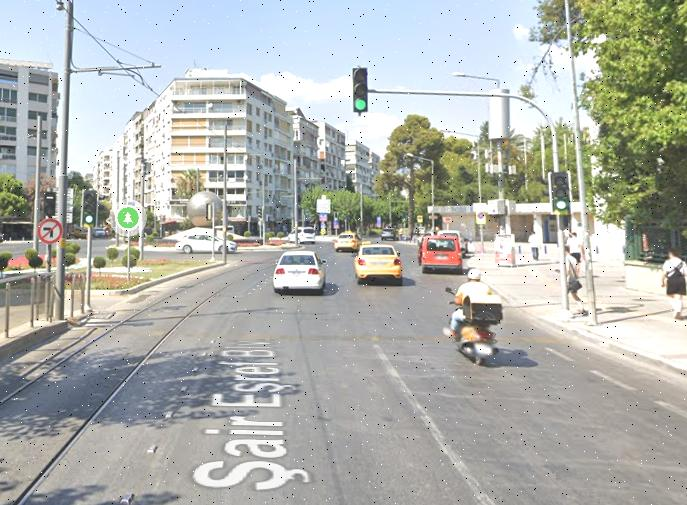greenlight: (353, 67, 368, 111), (551, 174, 568, 209), (82, 190, 99, 223)
leftturnsareforbidden: (39, 220, 64, 242)
